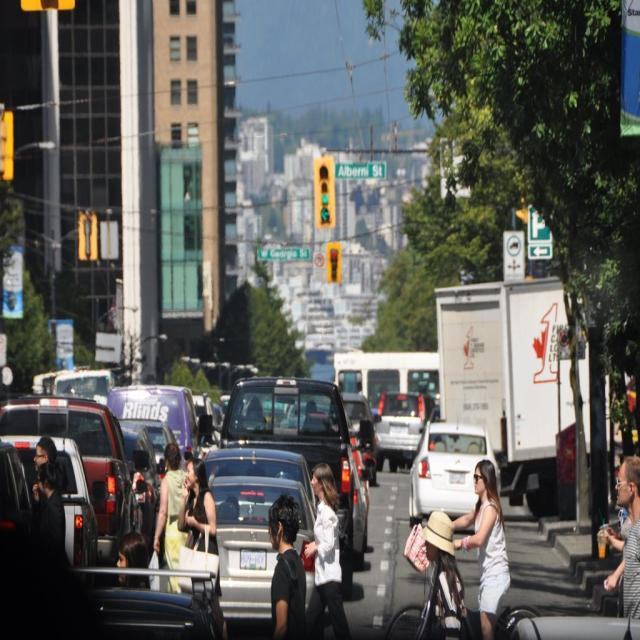traffic light: (312, 157, 335, 232), (515, 170, 529, 226), (326, 244, 342, 283)
